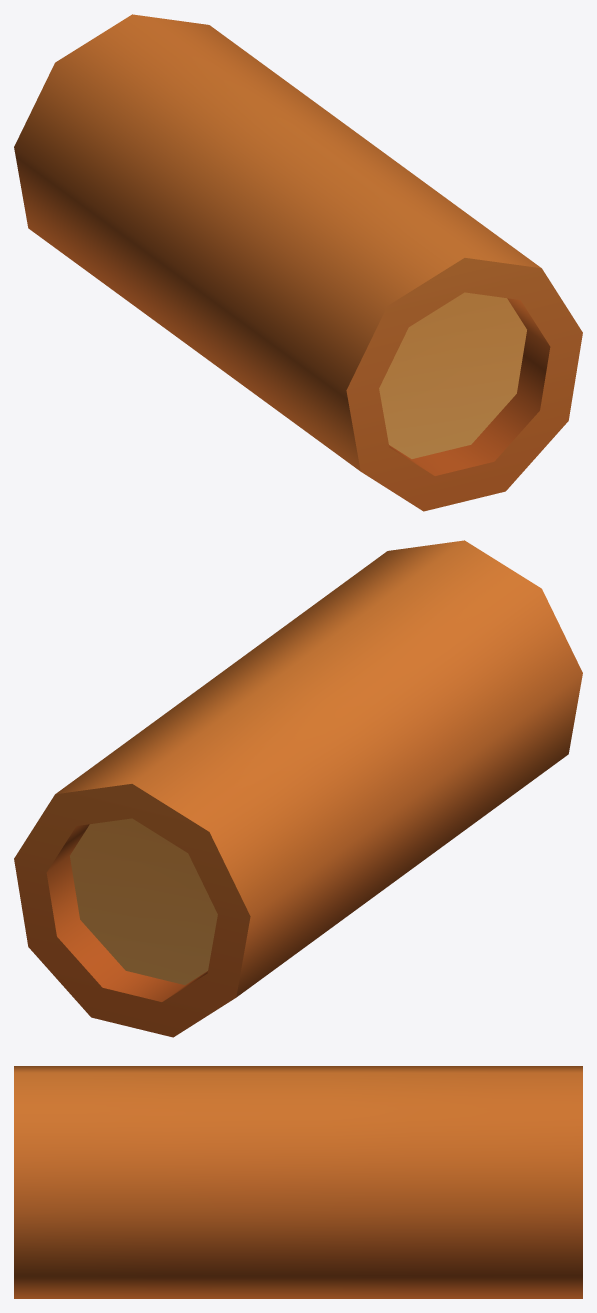
Rendered from SM_Log.fbx.
The picture shows the model from 3 angles, top to bottom: view 1: azimuth 30°, elevation 25°; view 2: azimuth 150°, elevation 25°; view 3: azimuth 270°, elevation 25°; orthographic projection. The views are drawn at different scales.
Parts seen in each view (by area): view 1: SM_Log; view 2: SM_Log; view 3: SM_Log.
Part boxes in pixels (<box>): SM_Log: <box>14,14,582,511</box>; SM_Log: <box>14,540,582,1037</box>; SM_Log: <box>14,1066,582,1298</box>.
Size of the model in its own units: 0.8275 by 0.815 by 2.01.
